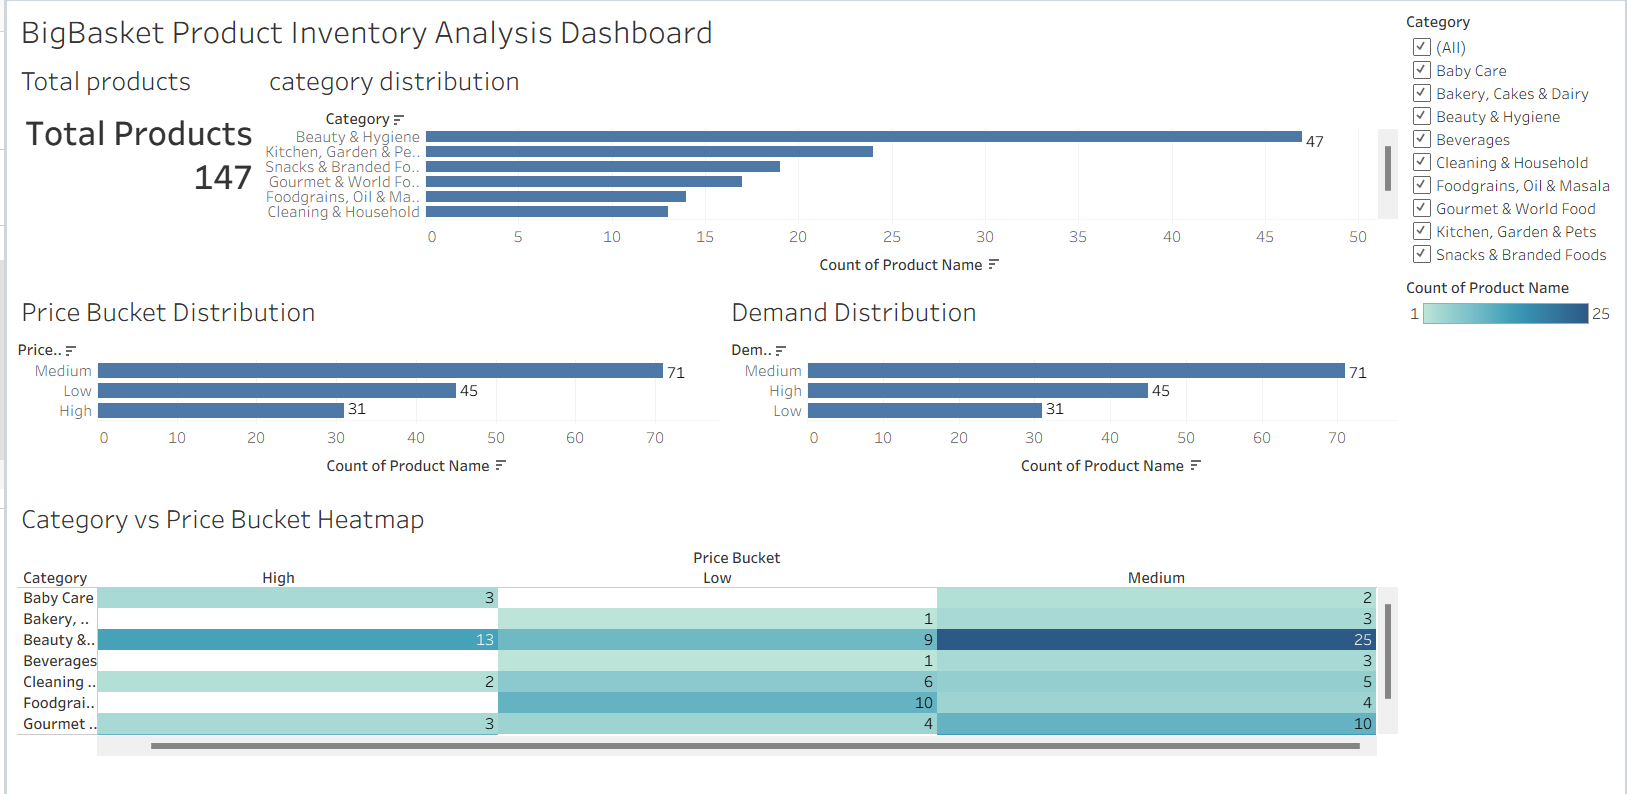

What the dashboard file says about the page in this screenshot:
{"tool":"tableau","page":{"name":"Dashboard 1","canvas":[1000,1000],"units":"permille","ordinal":0},"visuals":[{"type":"title","box":[4.9,10,856.4,59.9]},{"type":"filter","title":"category distribution","param":"[federated.12xkye20pcdoqk1140t7m0miq9yy].[none:category:nk]","box":[861.3,10,133.8,332.1]},{"type":"worksheet","title":"Total products","mark":"Text","box":[4.9,69.9,152.9,360.8]},{"type":"worksheet","title":"category distribution","mark":"Automatic","rows":["category"],"cols":["product_name"],"box":[157.8,69.9,703.5,360.8]},{"type":"legend","title":"Category vs Price Bucket Heatmap","param":"[federated.12xkye20pcdoqk1140t7m0miq9yy].[cnt:product_name:qk]","box":[861.3,342.1,133.8,91.1]},{"type":"worksheet","title":"Price Bucket Distribution","mark":"Automatic","rows":["price_bucket"],"cols":["product_name"],"box":[4.9,430.7,437.7,201]},{"type":"worksheet","title":"Demand Distribution","mark":"Automatic","rows":["demand_score"],"cols":["product_name"],"box":[442.7,430.7,418.6,201]},{"type":"worksheet","title":"Category vs Price Bucket Heatmap","mark":"Square","rows":["category"],"cols":["price_bucket"],"box":[4.9,631.7,856.4,149.8]}]}

Visuals, with their boxes on the dashboard's canvas, which has no fixed pixel size, in thousandths of its width and height (x1, y1, x2, y2). These are canvas units, not pixel positions in the 1627x794 screenshot, which may show the page scaled, cropped or inside an application window:
title: bbox(5, 10, 861, 70)
"category distribution" filter: bbox(861, 10, 995, 342)
"Total products" worksheet (Text marks): bbox(5, 70, 158, 431)
"category distribution" worksheet: bbox(158, 70, 861, 431)
"Category vs Price Bucket Heatmap" legend: bbox(861, 342, 995, 433)
"Price Bucket Distribution" worksheet: bbox(5, 431, 443, 632)
"Demand Distribution" worksheet: bbox(443, 431, 861, 632)
"Category vs Price Bucket Heatmap" worksheet (Square marks): bbox(5, 632, 861, 782)
